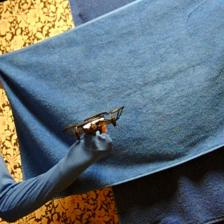drone: (62, 103, 128, 136)
